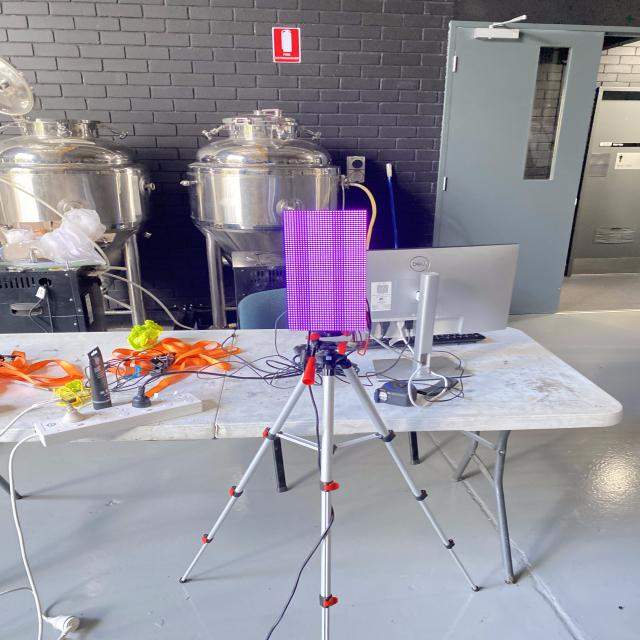matrix: (276, 198, 377, 338)
